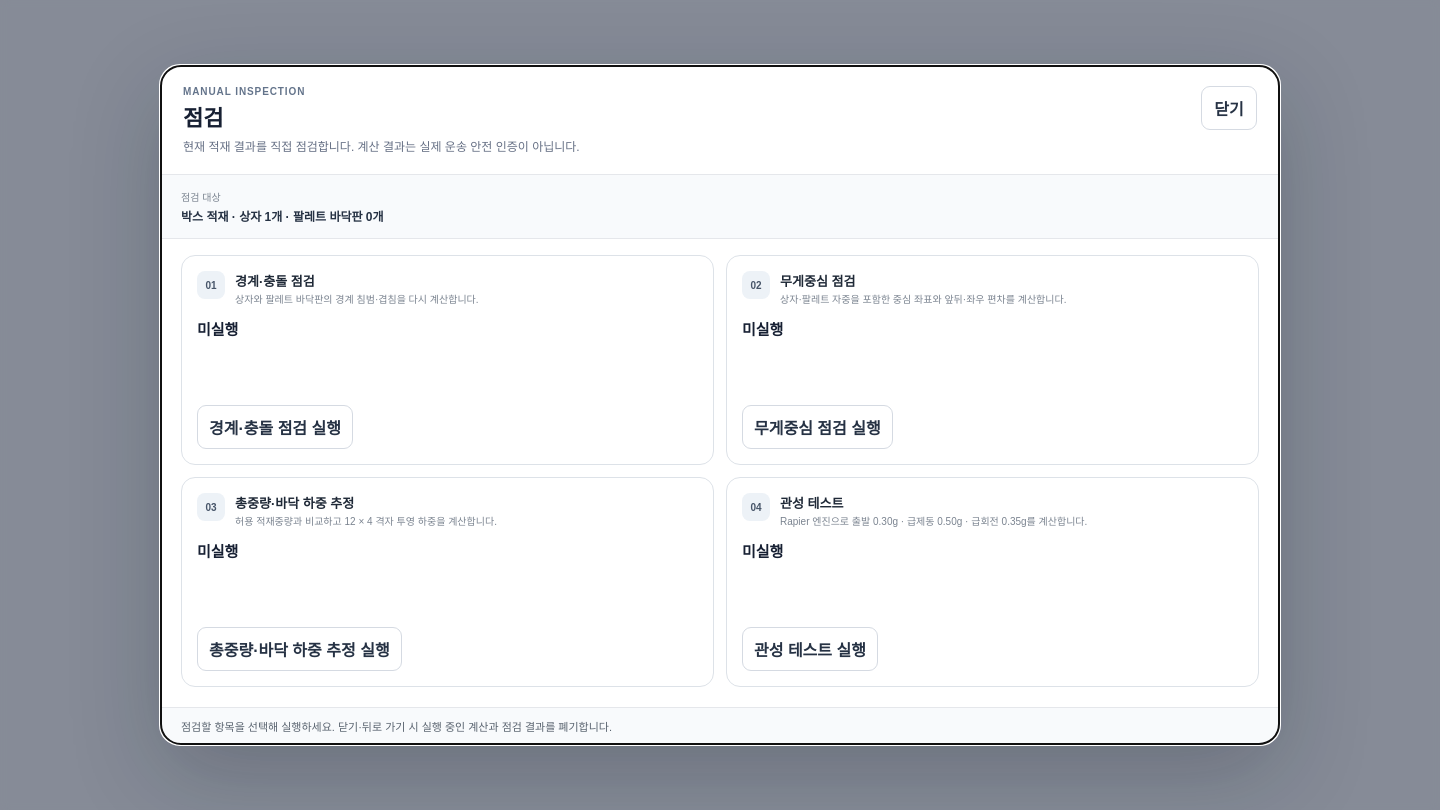
Test: manual inspection lifecycle › invalidates in-flight and completed results on equipment
Click the button "관성 테스트 실행" at (810, 649), box [742,627,878,671]
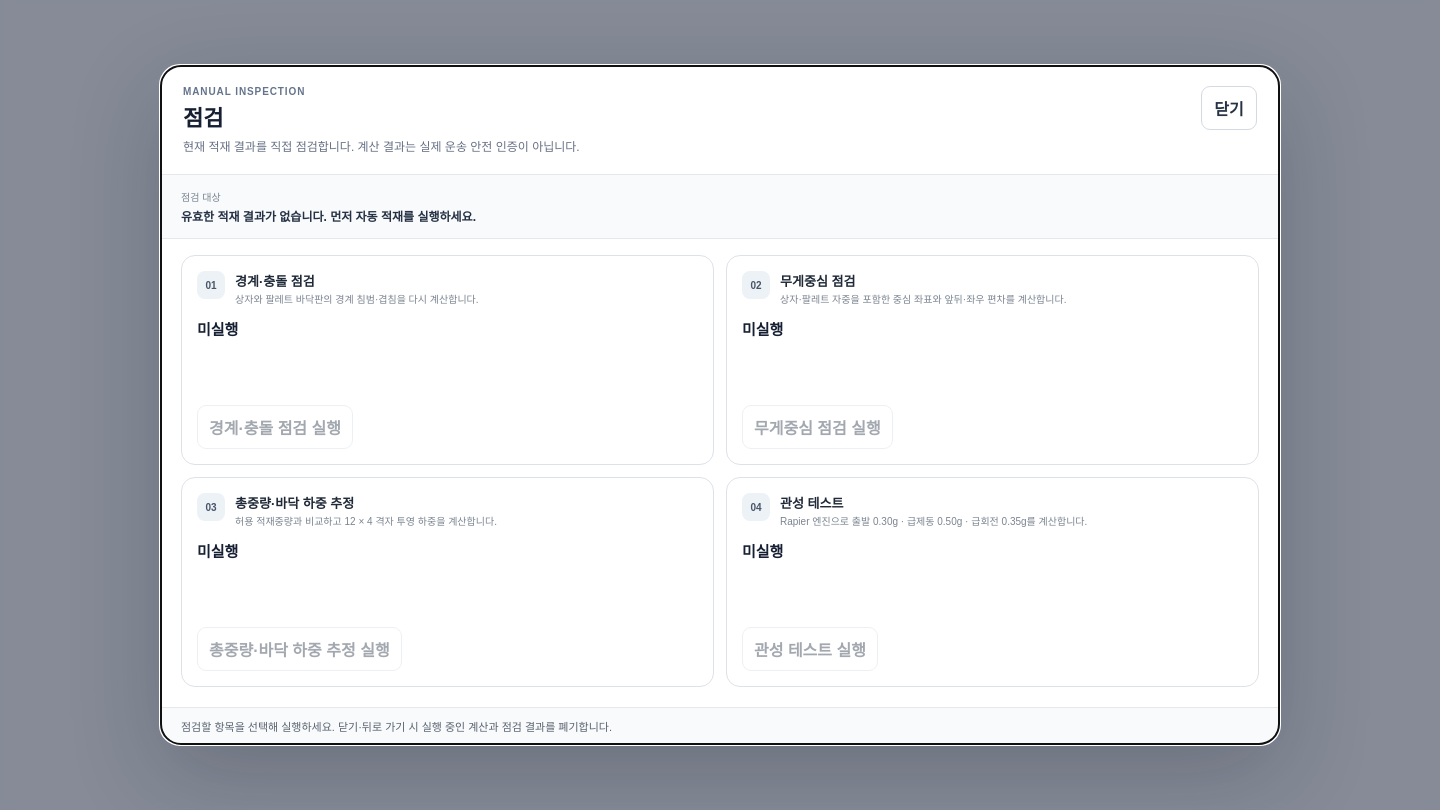
Result: the button "관성 테스트 실행" is disabled at [742,627,878,671]
